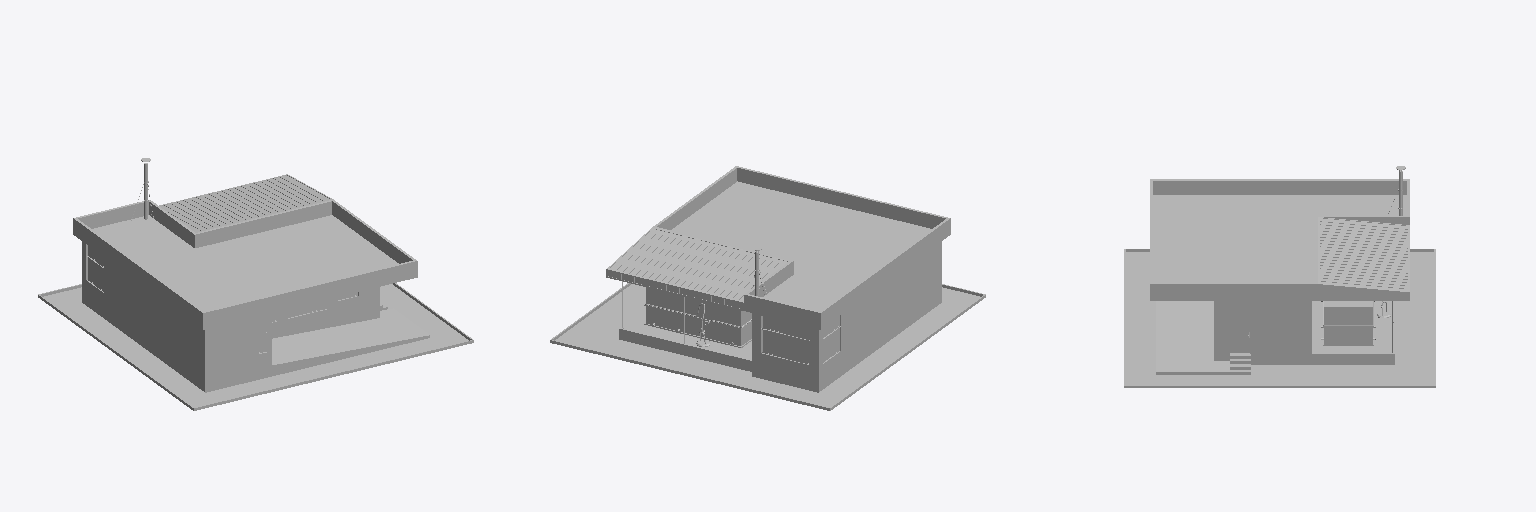
File: building6.obj
3 views of the same model, side by side, from view 1: azimuth 30°, elevation 25°; view 2: azimuth 150°, elevation 25°; view 3: azimuth 270°, elevation 25° (orthographic).
Parts seen in each view (by area): view 1: ROOF, WALL, LAND, FLOOR, SHADE, WINDOW; view 2: ROOF, LAND, SHADE, WALL, FLOOR, MACHINE1, WINDOW; view 3: ROOF, LAND, FLOOR, SHADE, WALL, MACHINE1, DOOR.
Part boxes in pixels (bbox=[...]): ROOF: bbox=[73, 158, 417, 329]; WALL: bbox=[82, 242, 379, 381]; LAND: bbox=[38, 283, 473, 410]; FLOOR: bbox=[82, 292, 429, 392]; SHADE: bbox=[159, 174, 332, 232]; WINDOW: bbox=[86, 244, 358, 354]; ROOF: bbox=[653, 166, 950, 329]; LAND: bbox=[550, 283, 985, 410]; SHADE: bbox=[606, 227, 788, 343]; WALL: bbox=[752, 242, 941, 381]; FLOOR: bbox=[619, 292, 941, 392]; MACHINE1: bbox=[644, 287, 751, 347]; WINDOW: bbox=[760, 315, 841, 365]; ROOF: bbox=[1150, 166, 1409, 300]; LAND: bbox=[1124, 249, 1435, 387]; FLOOR: bbox=[1156, 301, 1394, 374]; SHADE: bbox=[1318, 217, 1409, 352]; WALL: bbox=[1214, 301, 1311, 353]; MACHINE1: bbox=[1321, 301, 1375, 345]; DOOR: bbox=[1230, 315, 1250, 353].
Size of the model in its own units: 636 by 278 by 612.